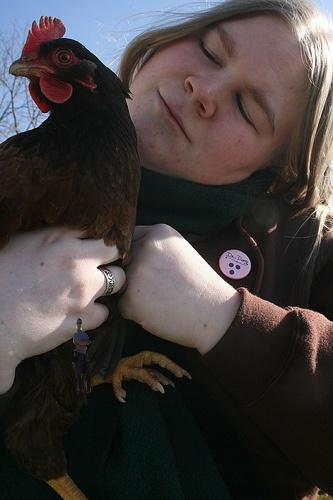tampered: (73, 319, 91, 393)
